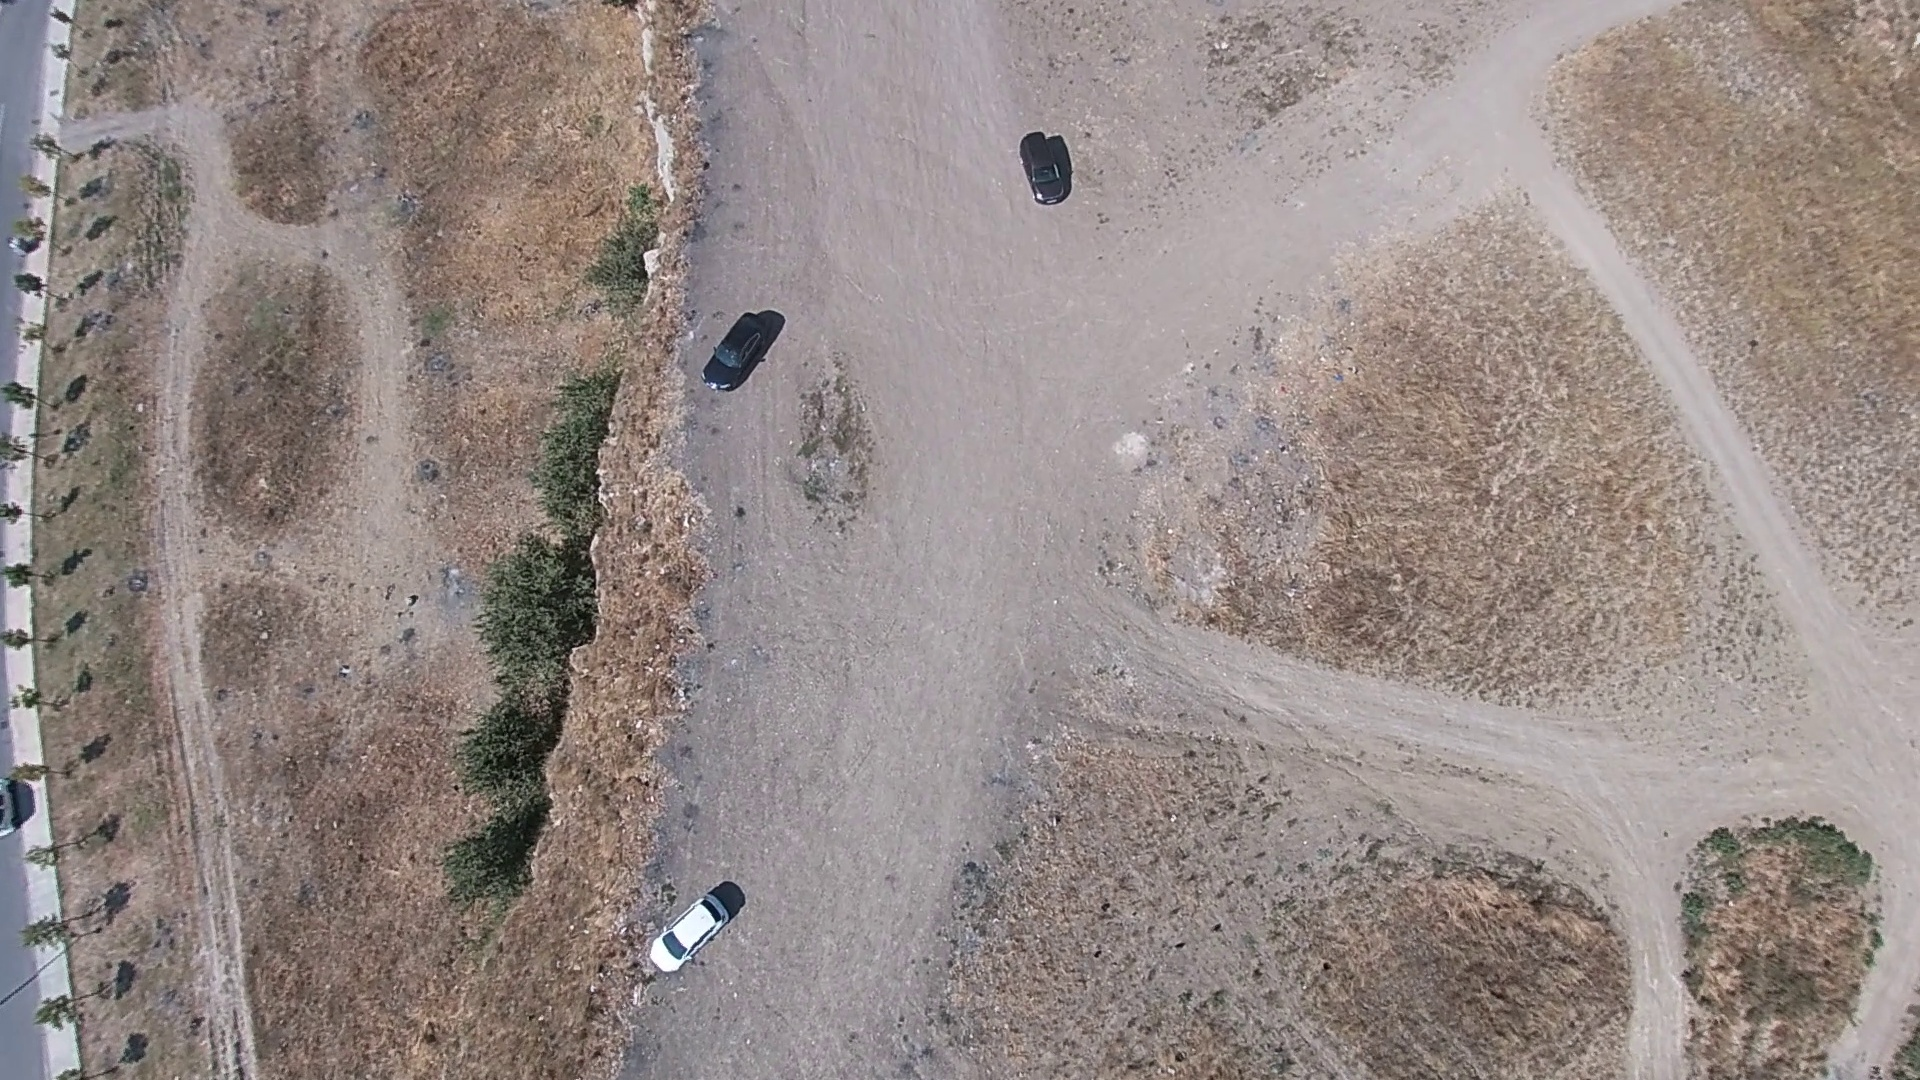arac: (644, 884, 742, 975), (695, 305, 782, 386), (1014, 125, 1072, 202)
